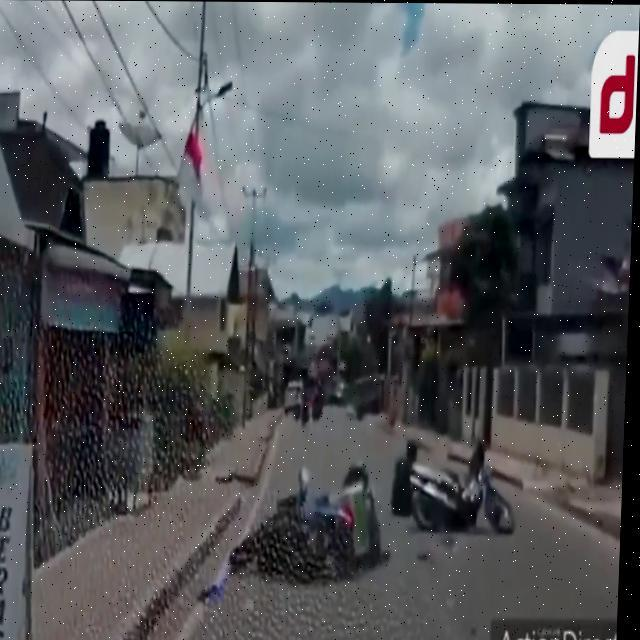multiple_accident: (187, 392, 540, 608)
